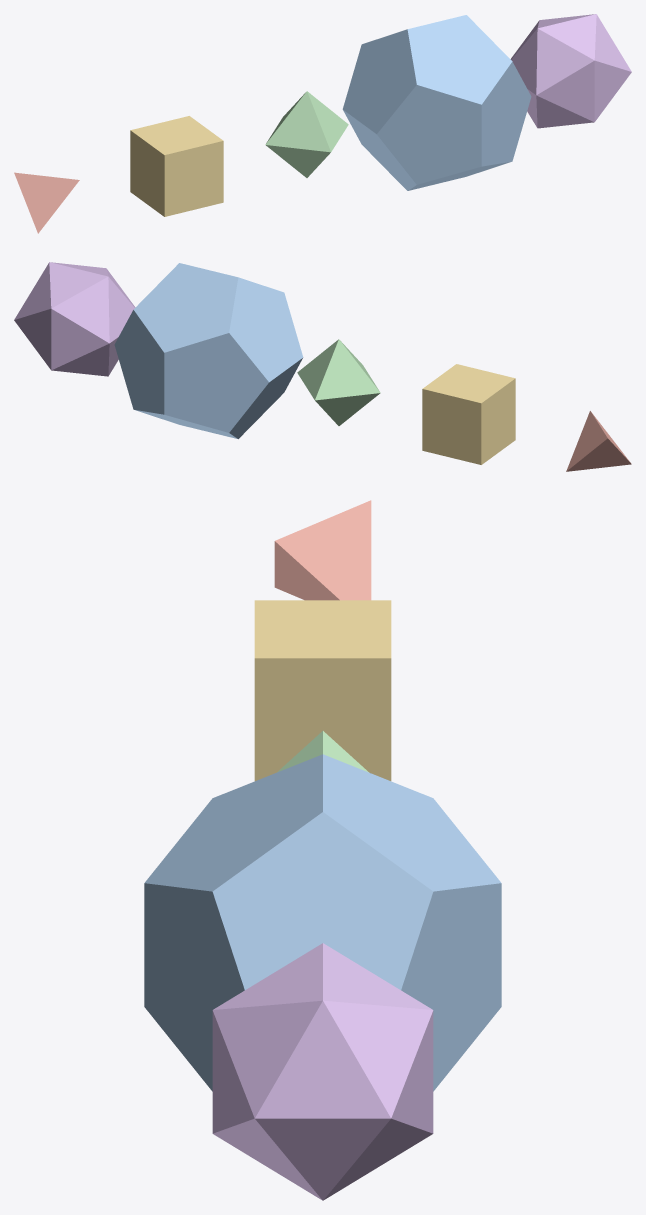
The model's file is example.gltf.
The picture shows the model from 3 angles, top to bottom: view 1: azimuth 30°, elevation 25°; view 2: azimuth 150°, elevation 25°; view 3: azimuth 270°, elevation 25°; orthographic projection. The views are drawn at different scales.
Parts seen in each view (by area): view 1: dodecahedron, icosahedron, cube, octahedron, tetrahedron; view 2: dodecahedron, icosahedron, cube, octahedron, tetrahedron; view 3: dodecahedron, icosahedron, cube, tetrahedron, octahedron.
Part boxes in pixels (bbox=[...]): dodecahedron: bbox=[342, 15, 531, 190]; icosahedron: bbox=[510, 14, 631, 128]; cube: bbox=[130, 116, 223, 216]; octahedron: bbox=[265, 91, 348, 177]; tetrahedron: bbox=[14, 172, 79, 233]; dodecahedron: bbox=[114, 263, 303, 439]; icosahedron: bbox=[14, 262, 135, 376]; cube: bbox=[422, 364, 515, 464]; octahedron: bbox=[297, 339, 380, 425]; tetrahedron: bbox=[566, 411, 631, 471]; dodecahedron: bbox=[144, 754, 501, 1091]; icosahedron: bbox=[212, 943, 433, 1200]; cube: bbox=[254, 600, 391, 780]; tetrahedron: bbox=[274, 500, 371, 600]; octahedron: bbox=[277, 731, 368, 772].
Bounding box in the file's own units: 9.96 × 2.62 × 2.62.
